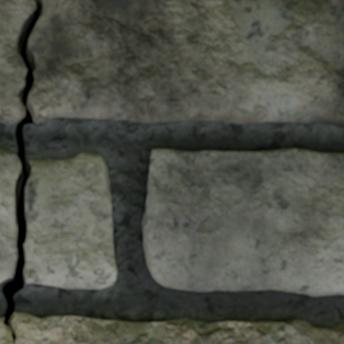brick: (143, 149, 343, 295)
broken_brick: (30, 0, 343, 128), (25, 152, 117, 289), (12, 310, 343, 343), (0, 0, 33, 124), (0, 148, 19, 284), (0, 317, 12, 343)
crack: (0, 0, 44, 343)
